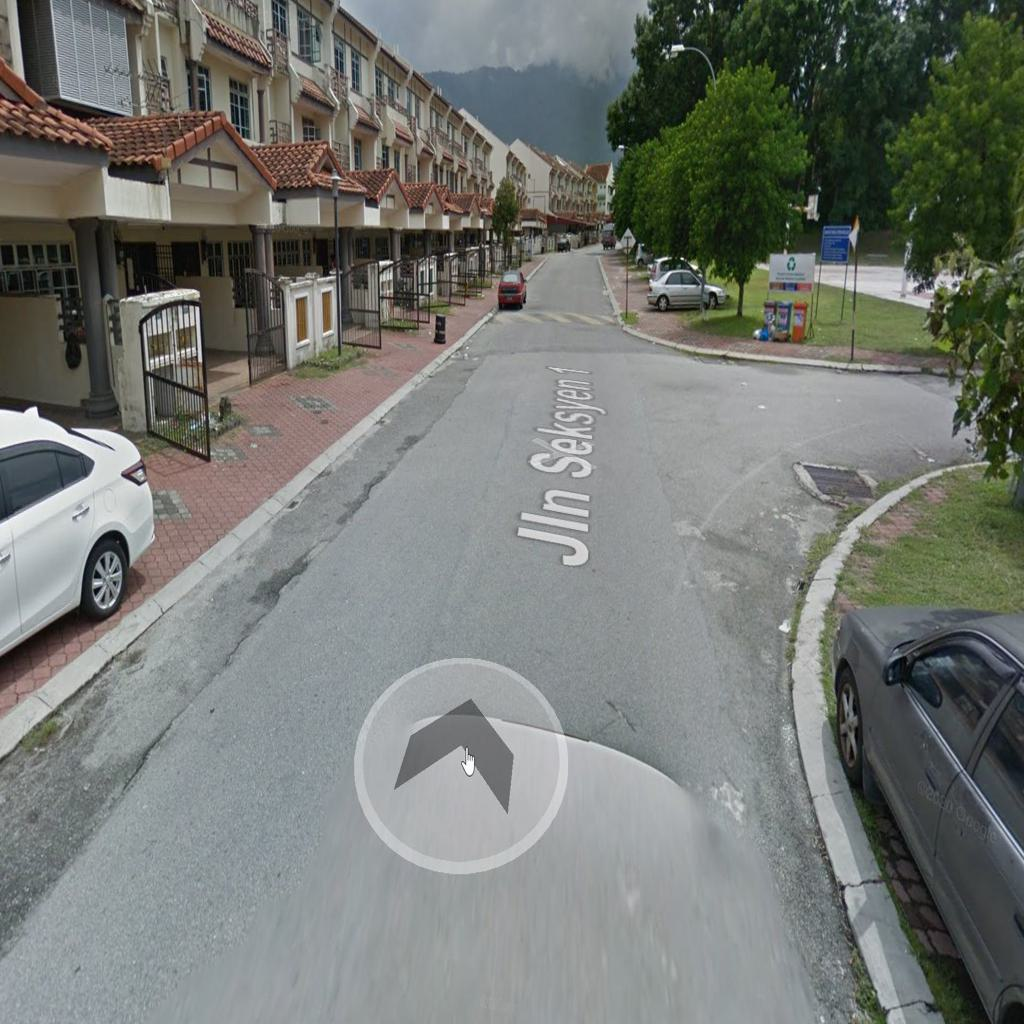Junction: (590, 315, 1001, 586)
